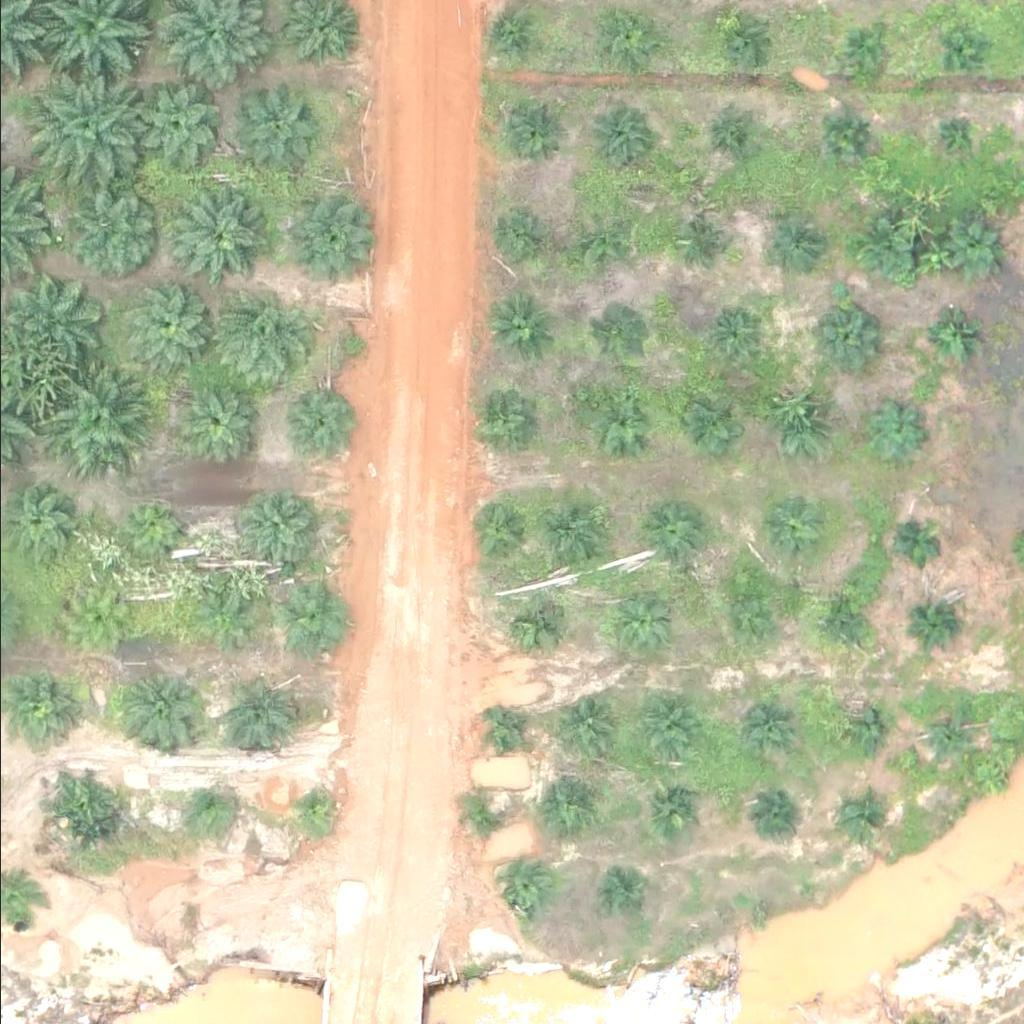Kelapa_Sawit: (30, 69, 156, 194), (44, 366, 144, 466), (208, 288, 308, 388), (175, 183, 275, 283), (70, 189, 158, 277), (286, 197, 374, 285), (130, 78, 218, 166), (119, 286, 208, 373), (13, 274, 101, 361), (231, 485, 319, 572), (174, 380, 262, 467), (230, 77, 318, 164), (221, 675, 297, 750), (276, 385, 352, 460), (40, 766, 116, 841), (124, 675, 200, 750), (7, 667, 82, 742), (707, 579, 770, 642), (731, 694, 794, 757), (914, 302, 977, 365), (814, 306, 877, 369), (487, 293, 550, 356), (634, 692, 697, 755), (504, 102, 567, 165), (597, 13, 660, 76), (486, 3, 549, 66), (589, 389, 652, 452), (482, 387, 545, 450), (582, 303, 645, 366), (465, 499, 528, 562), (284, 588, 347, 651), (538, 779, 601, 842), (553, 693, 616, 756), (62, 584, 125, 647), (938, 216, 1001, 279), (708, 9, 770, 72), (675, 390, 738, 452), (760, 501, 823, 563), (862, 400, 925, 462), (543, 503, 606, 565), (569, 215, 632, 277), (639, 500, 702, 562), (188, 594, 251, 656), (601, 589, 664, 651), (503, 594, 566, 656), (643, 779, 706, 841), (849, 218, 912, 280), (762, 396, 825, 458), (488, 210, 550, 272), (123, 493, 185, 555), (583, 106, 645, 168), (480, 706, 531, 756), (459, 792, 510, 842), (694, 113, 744, 163), (762, 215, 812, 265), (669, 223, 719, 273), (706, 306, 756, 356), (822, 109, 872, 159), (745, 795, 795, 845), (914, 602, 964, 652), (889, 520, 939, 570), (842, 27, 892, 77), (919, 709, 969, 759), (834, 705, 884, 755), (835, 791, 885, 841), (494, 863, 544, 913), (599, 873, 649, 923), (286, 785, 336, 835), (179, 781, 229, 831), (810, 599, 860, 649), (930, 113, 980, 163), (934, 26, 984, 76)
